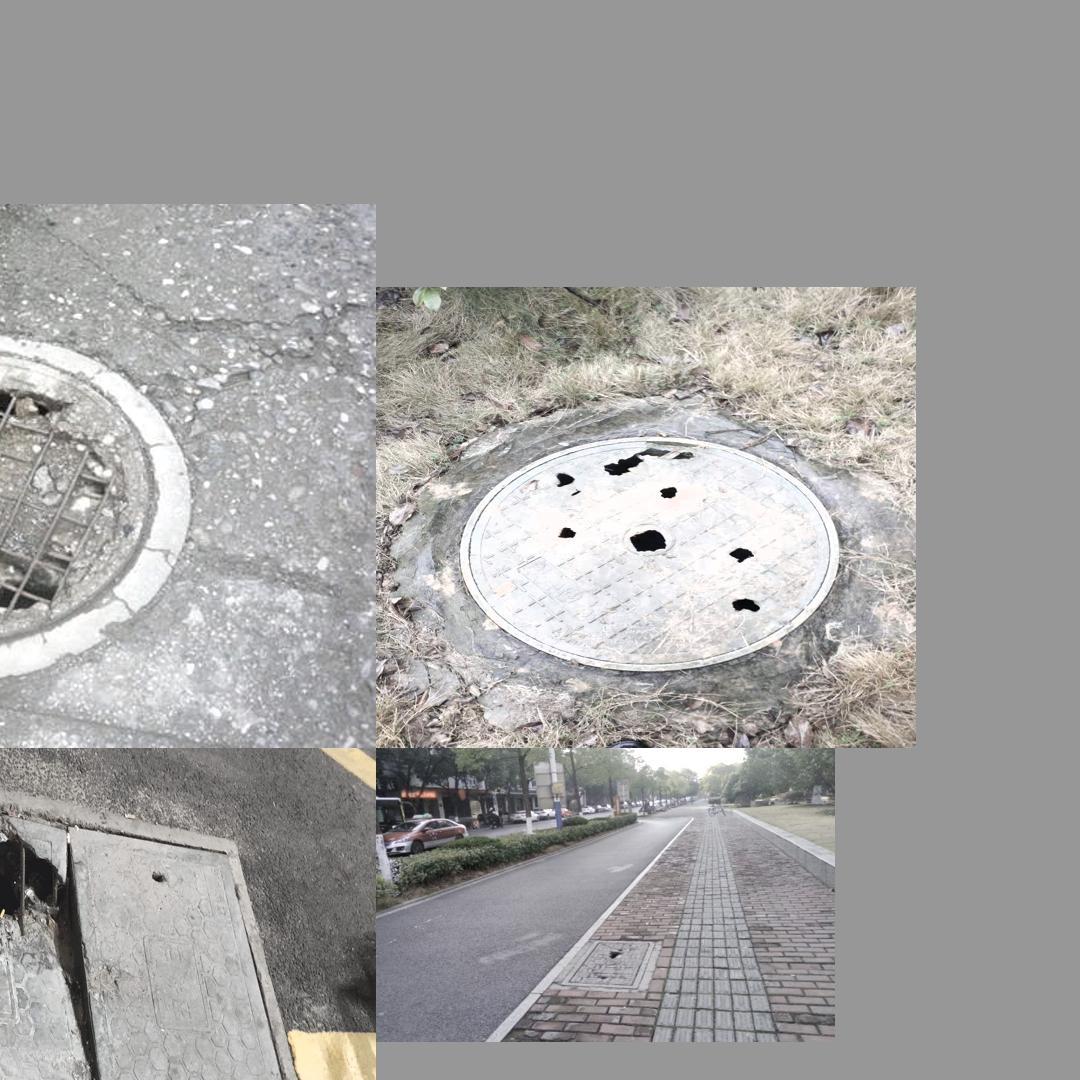broke: (0, 759, 327, 1080), (459, 435, 839, 672), (0, 331, 193, 685), (560, 939, 656, 989)
